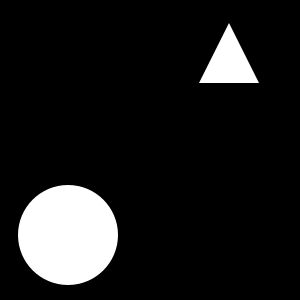rectangle: (18, 185, 118, 285)
triangle: (199, 23, 259, 83)
